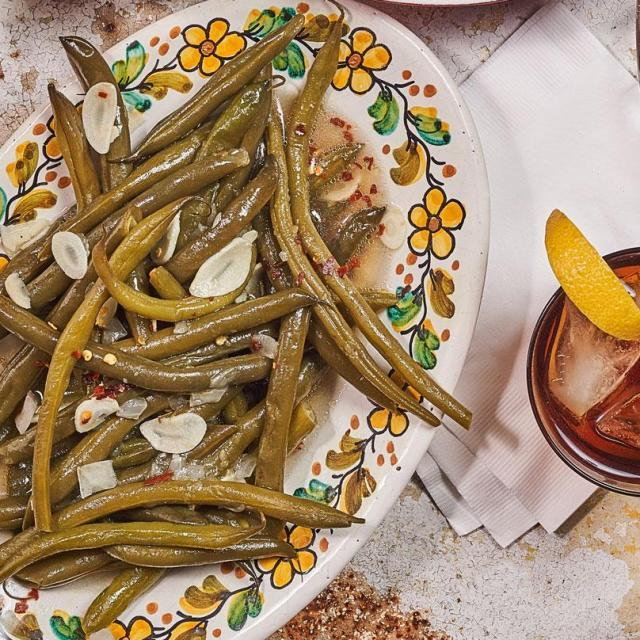Beans: (0, 14, 442, 626)
